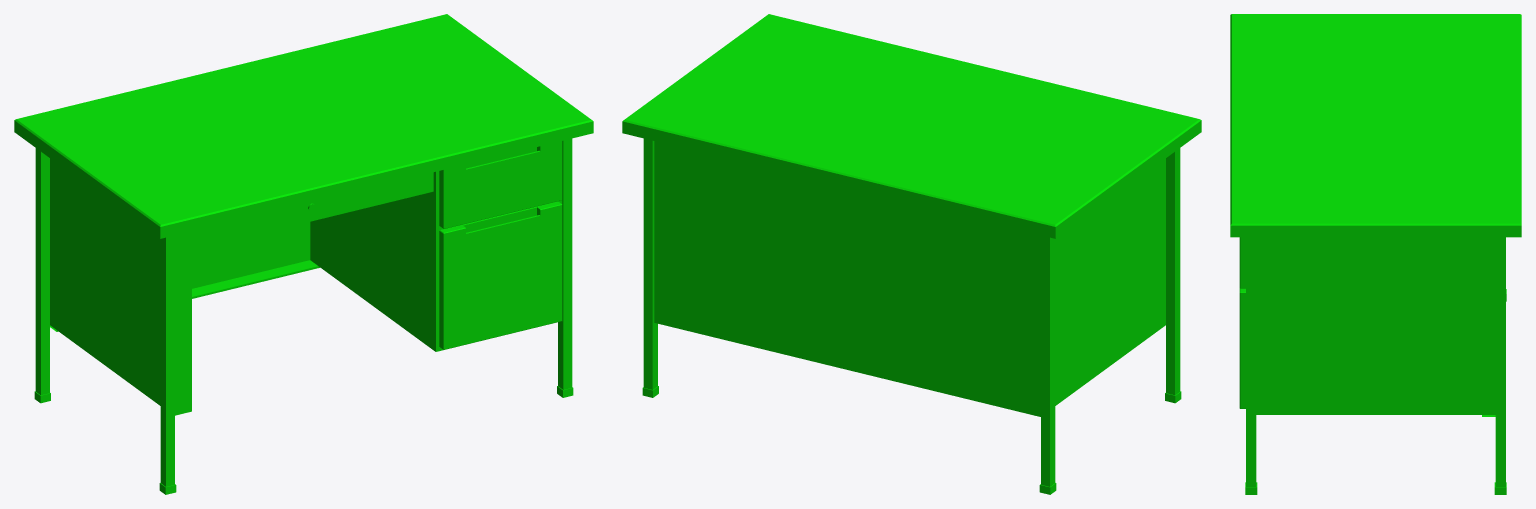
File: classroomTable.fbx
The picture shows the model from 3 angles, left to right: view 1: azimuth 30°, elevation 25°; view 2: azimuth 150°, elevation 25°; view 3: azimuth 270°, elevation 25°; orthographic projection.
Parts seen in each view (by area): view 1: classroomTable_desk, classroomTable_drawer2, classroomTable_drawer1; view 2: classroomTable_desk; view 3: classroomTable_desk, classroomTable_drawer2, classroomTable_drawer1.
Part boxes in pixels (left/top/right/bottom): classroomTable_desk: left=14, top=14, right=593, bottom=494; classroomTable_drawer2: left=439, top=201, right=562, bottom=349; classroomTable_drawer1: left=439, top=141, right=562, bottom=228; classroomTable_desk: left=622, top=14, right=1201, bottom=494; classroomTable_desk: left=1230, top=14, right=1521, bottom=494; classroomTable_drawer2: left=1239, top=288, right=1245, bottom=408; classroomTable_drawer1: left=1239, top=237, right=1245, bottom=288.
Bounding box in the file's own units: 120 × 73.5 × 70.
